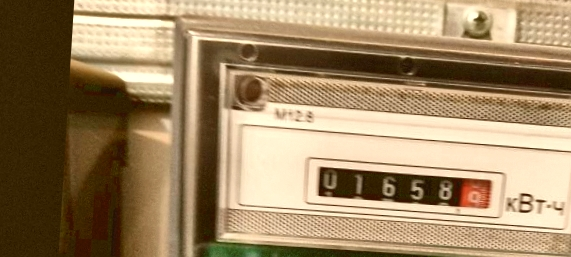0: (320, 167, 338, 189)
1: (350, 170, 365, 194)
5: (407, 175, 425, 200)
6: (379, 172, 398, 197)
8: (436, 177, 454, 200)
9: (464, 187, 481, 209)
screen: (300, 152, 509, 222)
